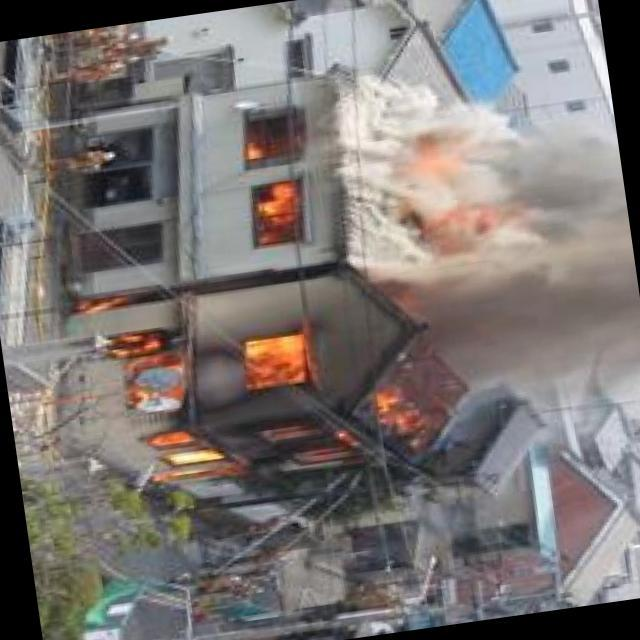Fire: (96, 269, 453, 511), (241, 112, 317, 239)
